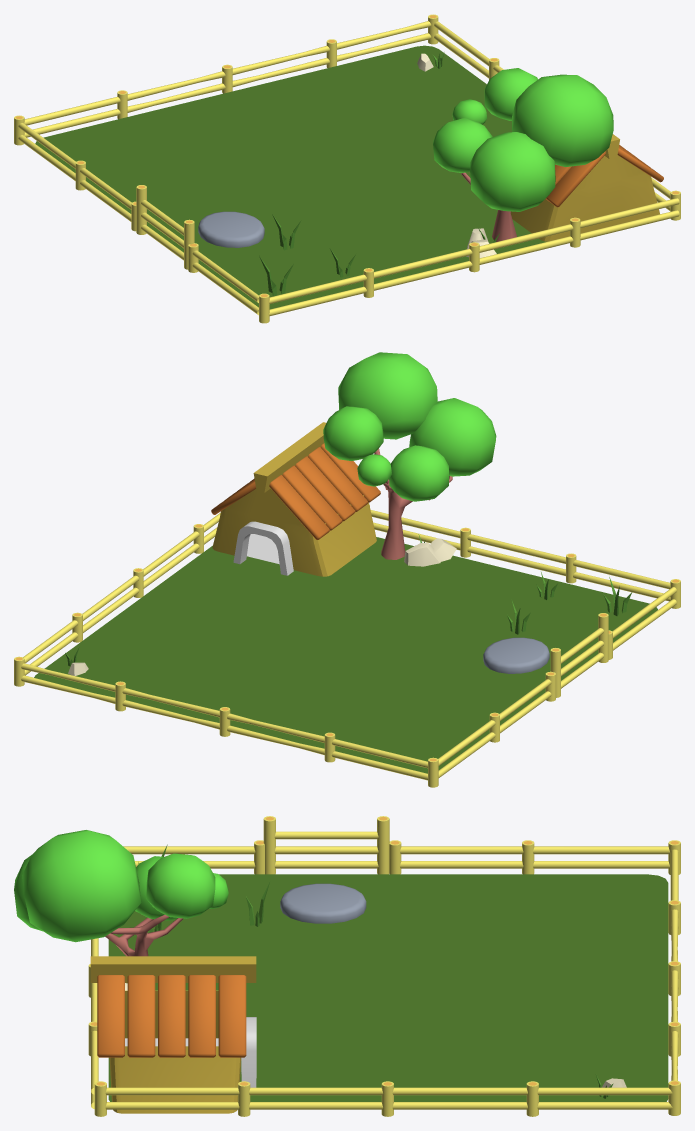
File: paddock_gazelle.fbx
3 views of the same model, one above another, from view 1: azimuth 30°, elevation 25°; view 2: azimuth 150°, elevation 25°; view 3: azimuth 270°, elevation 25° (orthographic). The views are drawn at different scales.
Parts seen in each view (by area): view 1: Plane.002, paddock_gazelle, Tree.016, house_gazelle.002, Cylinder, door_paddock_gazelle, house_gazelle; view 2: Plane.002, paddock_gazelle, Tree.016, house_gazelle, house_gazelle.002, Cylinder, door_paddock_gazelle, house_gazelle.001, rock.007; view 3: Plane.002, paddock_gazelle, Tree.016, house_gazelle, house_gazelle.002, door_paddock_gazelle, Cylinder.
Boxes of the visible parts, <box> form: Plane.002: <box>35,45,546,309</box>; paddock_gazelle: <box>14,14,680,323</box>; Tree.016: <box>433,68,613,241</box>; house_gazelle.002: <box>510,155,659,241</box>; Cylinder: <box>198,211,264,247</box>; door_paddock_gazelle: <box>136,185,194,269</box>; house_gazelle: <box>545,134,663,207</box>; Plane.002: <box>34,537,657,773</box>; paddock_gazelle: <box>14,505,680,787</box>; Tree.016: <box>323,352,496,559</box>; house_gazelle: <box>211,422,380,575</box>; house_gazelle.002: <box>212,488,376,576</box>; Cylinder: <box>483,637,549,673</box>; door_paddock_gazelle: <box>550,613,608,697</box>; house_gazelle.001: <box>247,534,279,564</box>; rock.007: <box>404,542,440,566</box>; Plane.002: <box>108,874,668,1101</box>; paddock_gazelle: <box>88,840,680,1116</box>; Tree.016: <box>14,830,228,956</box>; house_gazelle: <box>90,956,256,1087</box>; house_gazelle.002: <box>109,990,241,1113</box>; door_paddock_gazelle: <box>263,816,389,874</box>; Cylinder: <box>280,883,366,923</box>.
Bounding box in the file's own units: 2684 × 1087 × 3071.
